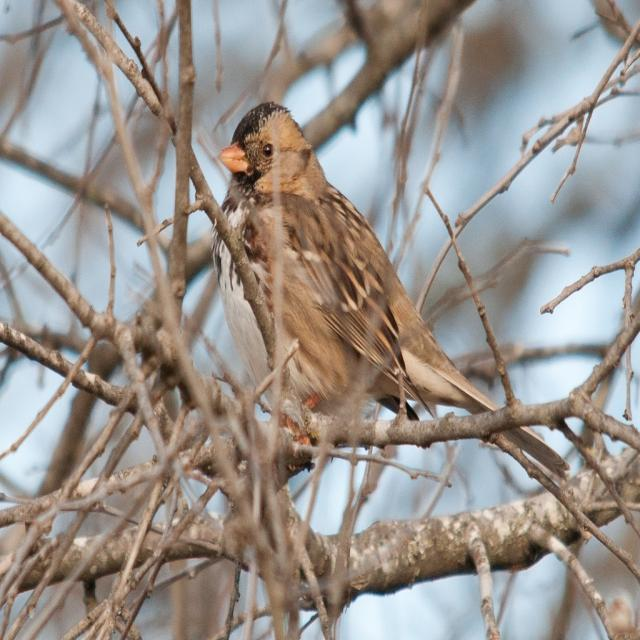bird: (212, 101, 568, 482)
